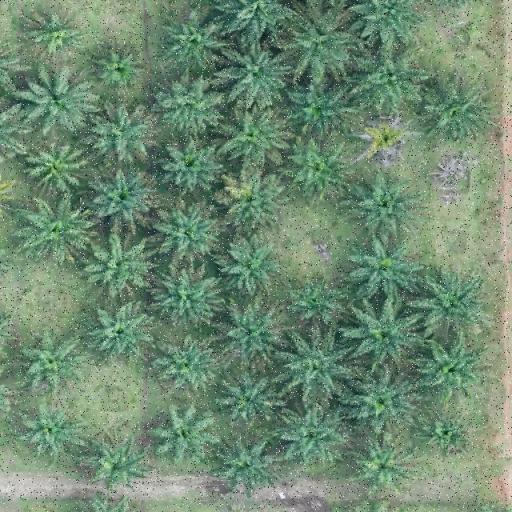Ganoderma: (362, 119, 410, 160)
